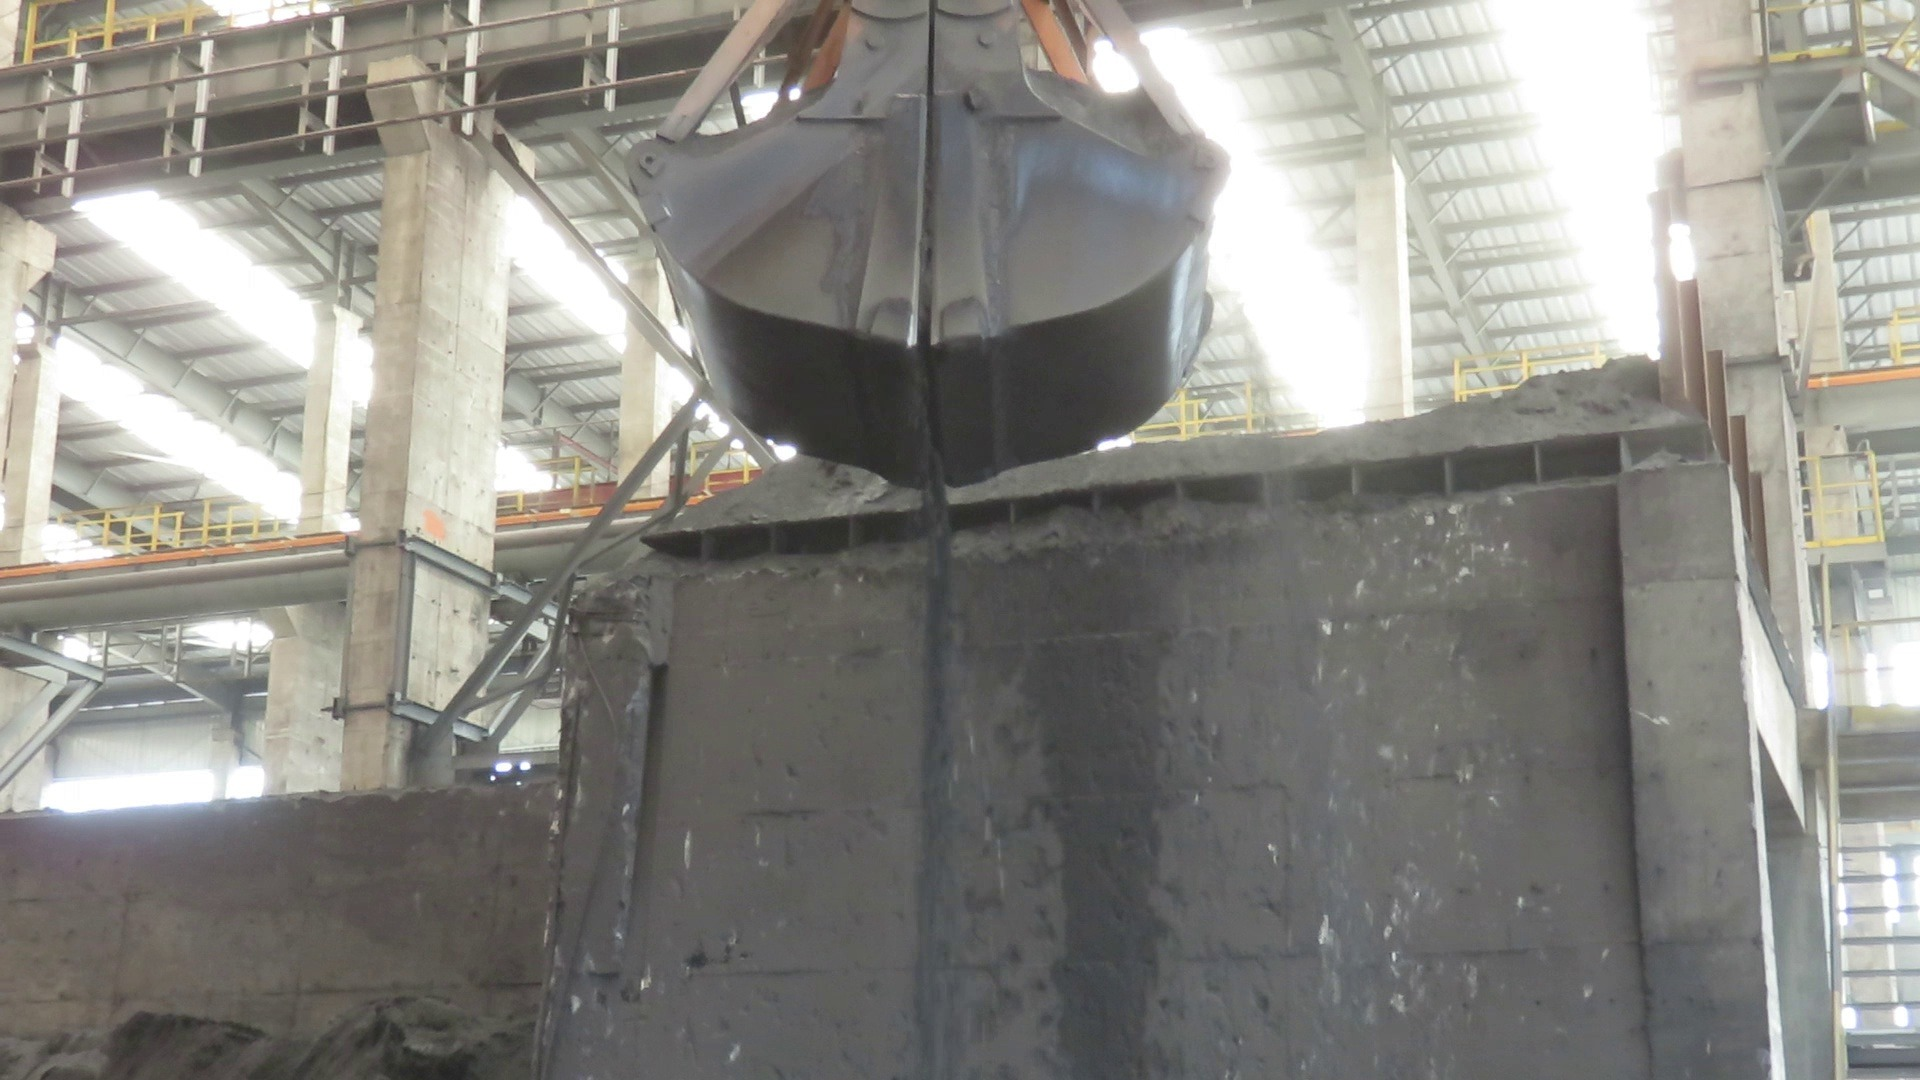grab: (618, 0, 1240, 483)
